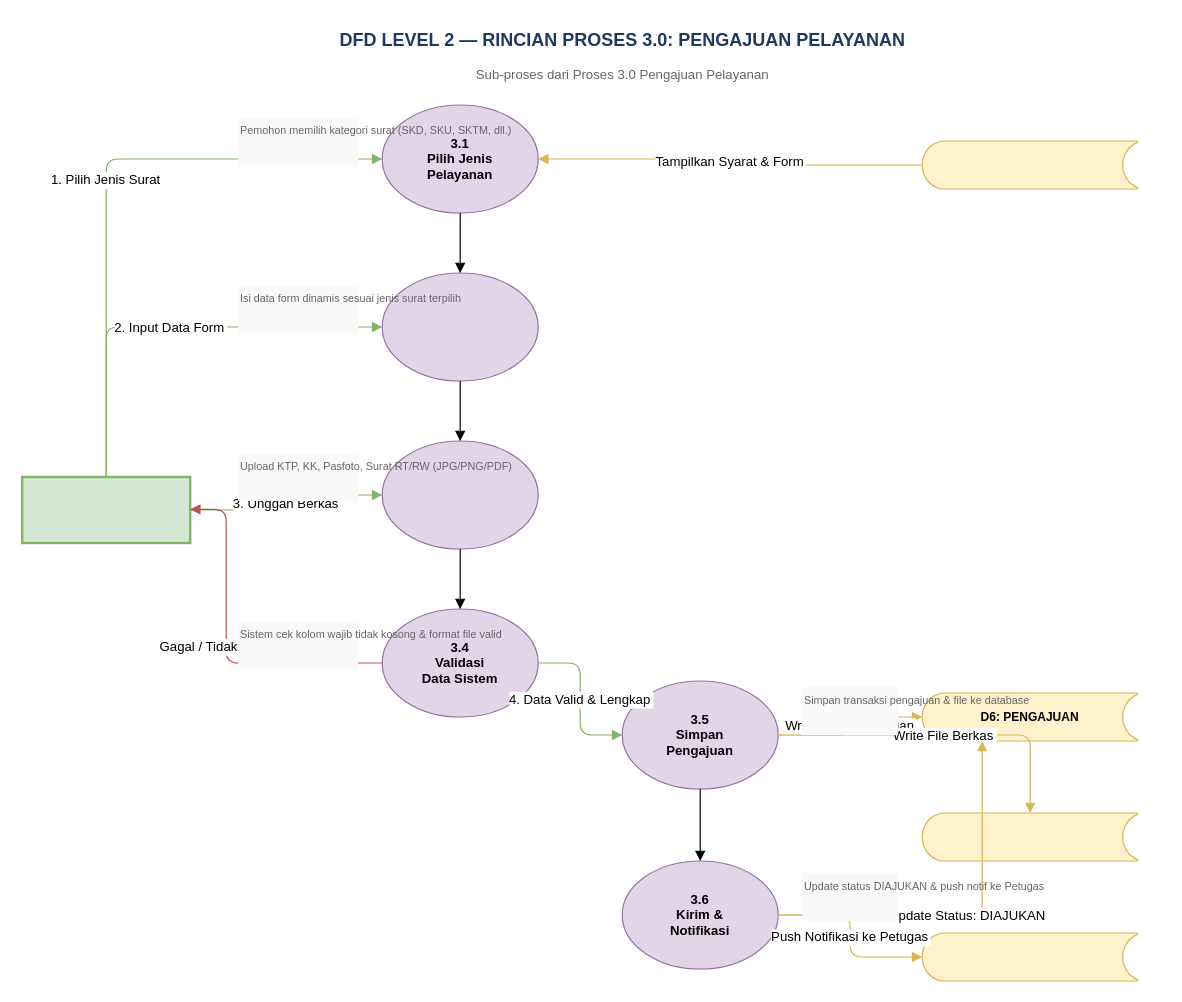
This 1182x1002 diagram has some shape labels left out. The shapes that lost their labels are listed below. From the top down, each one's box as (x1, y1, x2, y2) in pixels, then its label:
(921, 140, 1138, 189): D5: JENIS PELAYANAN
(381, 272, 538, 381): 3.2 Isi Formulir Online
(20, 475, 191, 544): MASYARAKAT
(381, 440, 538, 549): 3.3 Upload Dokumen
(921, 812, 1138, 861): D7: DOKUMEN
(921, 932, 1138, 981): D10: NOTIFIKASI
